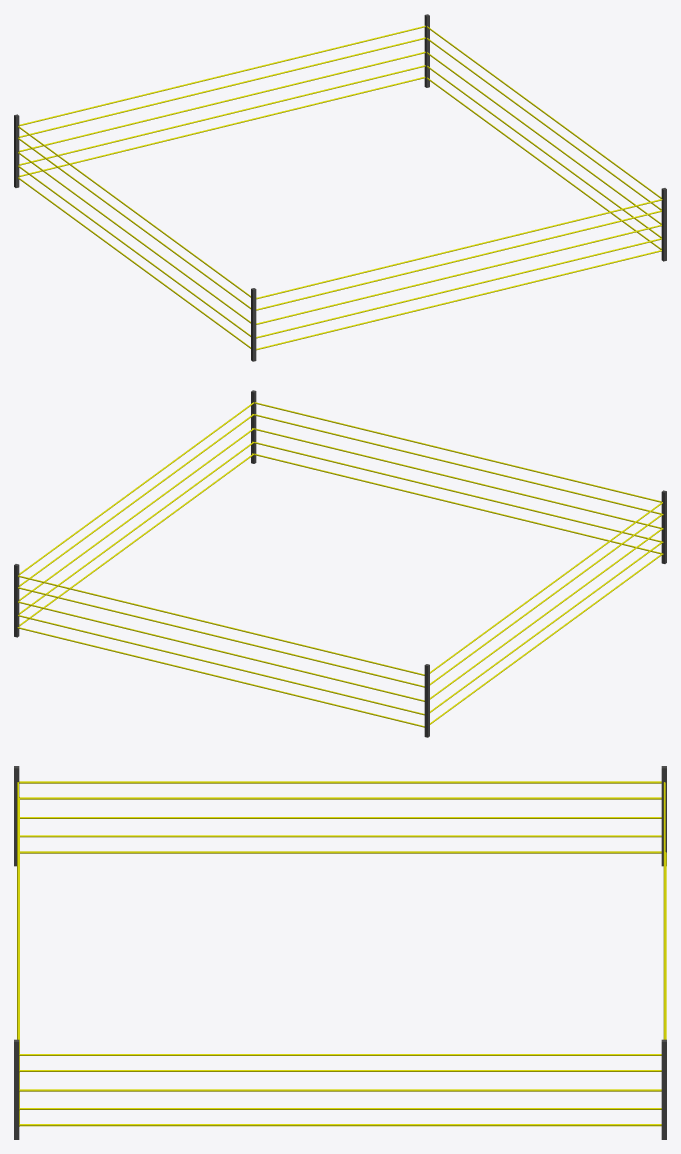
File: ElectricFence.fbx
3 views of the same model, one above another, from view 1: azimuth 30°, elevation 25°; view 2: azimuth 150°, elevation 25°; view 3: azimuth 270°, elevation 25° (orthographic). The views are drawn at different scales.
Parts seen in each view (by area): view 1: polySurface1; view 2: polySurface1; view 3: polySurface1.
Boxes of the visible parts, <box> form: polySurface1: <box>14,14,666,361</box>; polySurface1: <box>14,390,666,737</box>; polySurface1: <box>14,766,666,1139</box>.
Bounding box in the file's own units: 121 × 20 × 121.
